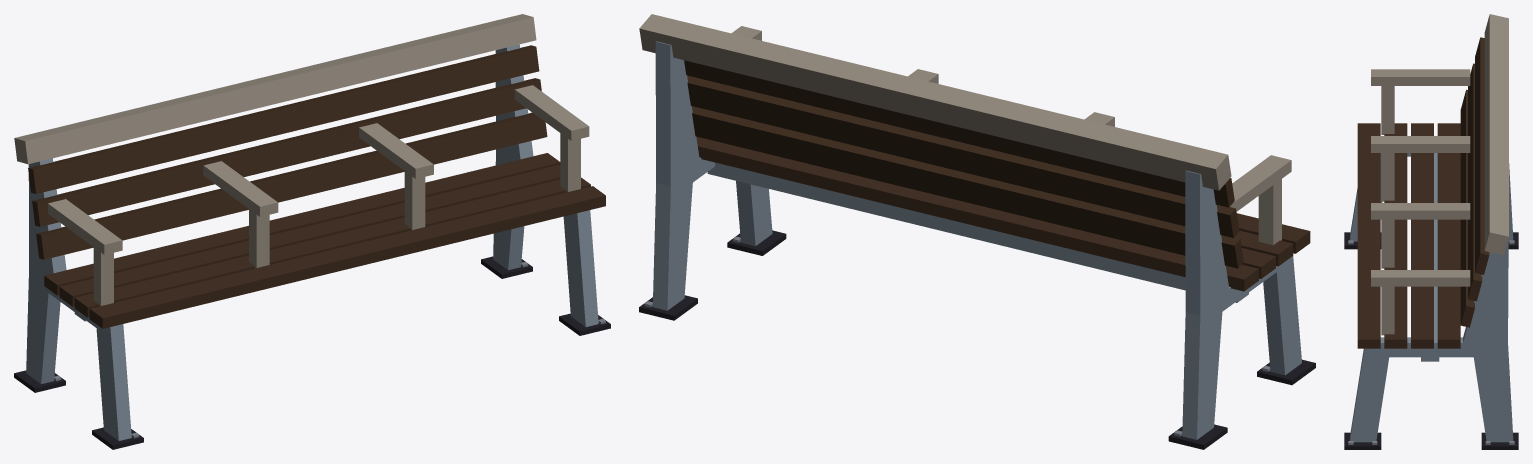
The model's file is subway-benches.glb.
3 views of the same model, side by side, from view 1: azimuth 30°, elevation 25°; view 2: azimuth 150°, elevation 25°; view 3: azimuth 270°, elevation 25° (orthographic). The views are drawn at different scales.
Visible parts, largest first — view 1: backrest_dark_wood, seat_dark_wood, backrest_line_colour, frame_steel, armrests_line_colour, fixings_soot_black; view 2: backrest_dark_wood, frame_steel, backrest_line_colour, seat_dark_wood, armrests_line_colour, fixings_soot_black; view 3: seat_dark_wood, frame_steel, armrests_line_colour, backrest_line_colour, backrest_dark_wood, fixings_soot_black.
Part boxes in pixels (box(x1,y1,x2,y2)): backrest_dark_wood: box(28, 45, 547, 259); seat_dark_wood: box(44, 153, 605, 328); backrest_line_colour: box(14, 14, 536, 164); frame_steel: box(26, 44, 598, 440); armrests_line_colour: box(48, 85, 589, 305); fixings_soot_black: box(14, 256, 610, 449); backrest_dark_wood: box(684, 60, 1243, 268); frame_steel: box(652, 41, 1301, 439); backrest_line_colour: box(639, 14, 1231, 190); seat_dark_wood: box(696, 136, 1310, 291); armrests_line_colour: box(731, 26, 1291, 245); fixings_soot_black: box(639, 230, 1315, 449); seat_dark_wood: box(1357, 123, 1460, 348); frame_steel: box(1350, 153, 1513, 442); armrests_line_colour: box(1371, 69, 1470, 335); backrest_line_colour: box(1484, 14, 1508, 254); backrest_dark_wood: box(1460, 37, 1489, 327); fixings_soot_black: box(1344, 232, 1518, 449).
Size of the model in its own units: 1.96 by 0.9198 by 0.66.
